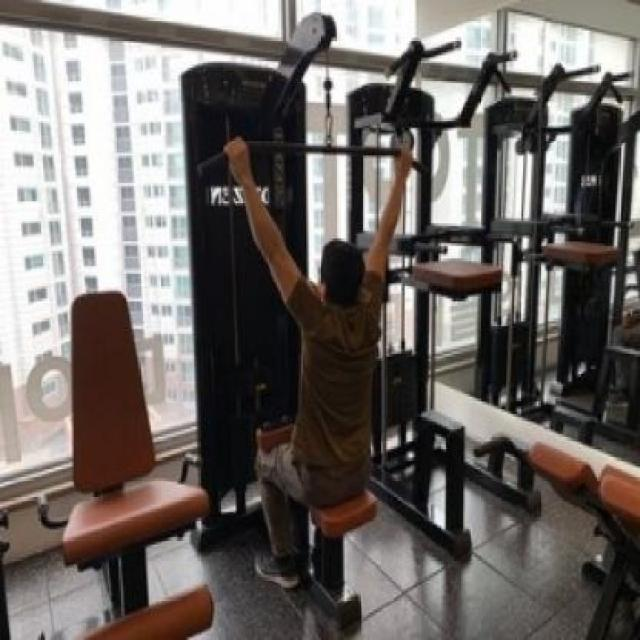Lat Pull Down: (166, 3, 451, 640)
